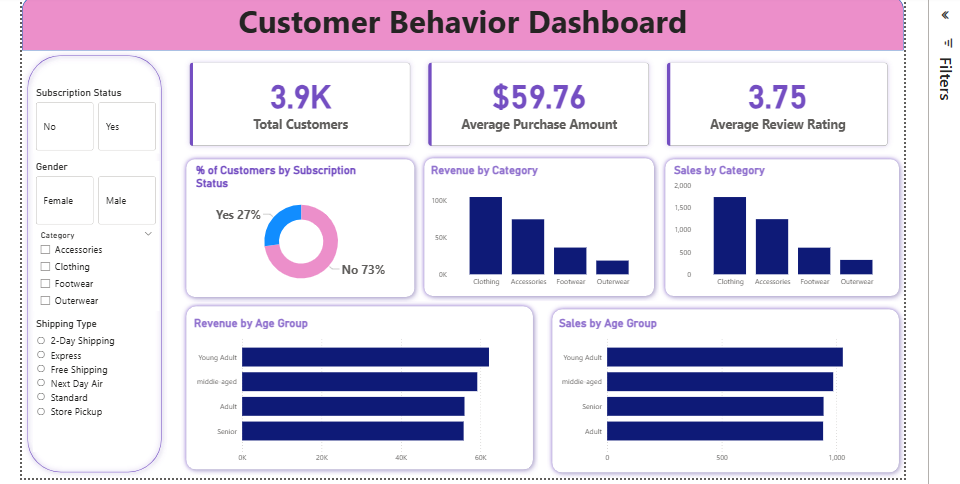

The page's visual inventory and layout, read from the dashboard file:
{"tool":"powerbi","page":{"name":"Page 1","canvas":[1500,820],"ordinal":0},"visuals":[{"type":"cardVisual","fields":{"Data":["public customer.Total Customers","public customer.Average Purchase Amount","public customer.Average Review Rating"]},"box":[256.2,85.8,1244.1,198.9],"z":0},{"type":"shape","box":[0,0,1500.3,92.7],"z":1000},{"type":"textbox","box":[0,0,1500.3,92.7],"z":2000},{"type":"shape","box":[271.2,268.4,406.1,252.1],"z":3000},{"type":"donutChart","title":"% of Customers by Subscription Status","fields":{"Category":["public customer.subscription_status"],"Y":["Count(public customer.customer_id)"]},"box":[290.2,283.4,367.9,219.4],"z":4000},{"type":"shape","box":[675.9,267.1,408.8,252.1],"z":5000},{"type":"shape","box":[1084.7,268.4,415.6,250.7],"z":6000},{"type":"clusteredColumnChart","title":" Revenue by Category","fields":{"Y":["Sum(public customer.purchase_amount)"],"Category":["public customer.category"]},"box":[690.9,284.8,377.5,219.4],"z":7000},{"type":"clusteredColumnChart","title":" Sales by Category","fields":{"Y":["CountNonNull(public customer.customer_id)"],"Category":["public customer.category"]},"box":[1103.7,284.8,378.8,219.4],"z":8000},{"type":"shape","box":[0,92.7,246.6,727.7],"z":9000},{"type":"advancedSlicerVisual","title":"Subscription Status","fields":{"Values":["public customer.subscription_status"]},"box":[19.1,154,215.3,113.1],"z":10000},{"type":"advancedSlicerVisual","title":"Gender","fields":{"Values":["public customer.gender"]},"box":[19.1,280.7,215.3,113.1],"z":11000},{"type":"slicer","title":"Subscription Status","fields":{"Values":["public customer.category"]},"box":[19.1,393.8,215.3,143.1],"z":12000},{"type":"listSlicer","fields":{"Values":["public customer.shipping_type"]},"box":[19.1,547.8,174.4,227.6],"z":13000},{"type":"shape","box":[271.2,519.2,607.7,295.7],"z":14000},{"type":"clusteredBarChart","title":"Revenue by Age Group","fields":{"Y":["Sum(public customer.purchase_amount)"],"Category":["public customer.age_group"]},"box":[287.5,543.7,575,258.9],"z":15000},{"type":"shape","box":[892.5,524.6,607.7,295.7],"z":16000},{"type":"clusteredBarChart","title":"Sales by Age Group","fields":{"Y":["CountNonNull(public customer.customer_id)"],"Category":["public customer.age_group"]},"box":[908.9,543.7,575,258.9],"z":17000}]}

Visuals, with their boxes on the page's 1500x820 design canvas (x1, y1, x2, y2). These are canvas units, not pixel positions in the 960x484 screenshot, which may show the page scaled, cropped or inside an application window:
cardVisual - public customer.Total Customers x public customer.Average Purchase Amount: 256,86,1500,285
shape: 0,0,1500,93
textbox: 0,0,1500,93
shape: 271,268,677,520
"% of Customers by Subscription Status" donutChart: 290,283,658,503
shape: 676,267,1085,519
shape: 1085,268,1500,519
" Revenue by Category" clusteredColumnChart: 691,285,1068,504
" Sales by Category" clusteredColumnChart: 1104,285,1482,504
shape: 0,93,247,820
"Subscription Status" advancedSlicerVisual: 19,154,234,267
"Gender" advancedSlicerVisual: 19,281,234,394
"Subscription Status" slicer: 19,394,234,537
listSlicer - public customer.shipping_type: 19,548,194,775
shape: 271,519,879,815
"Revenue by Age Group" clusteredBarChart: 288,544,862,803
shape: 892,525,1500,820
"Sales by Age Group" clusteredBarChart: 909,544,1484,803
